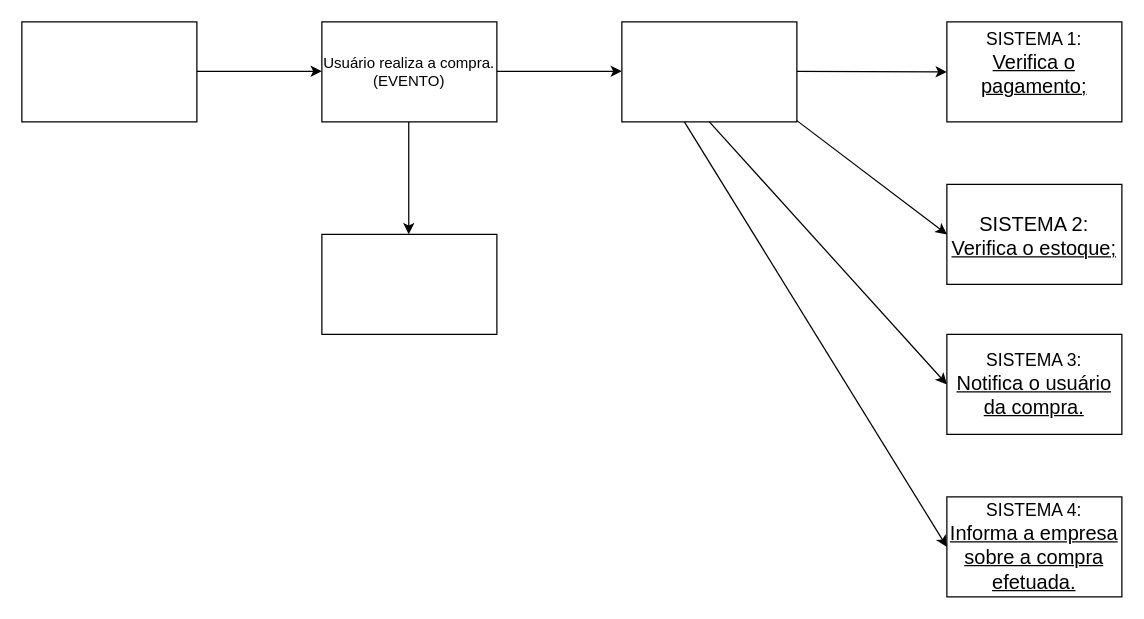
The diagram is 1144 pixels wide and 619 high, and some of its shapes have lost their labels. Each missing label, with the centre of its shape:
Publisher, responsável por disparar os comandos.: the point at 709,71
Usuário continua navegando no site.: the point at 409,283
Usuário tem acesso à ao site de compra.: the point at 109,71
